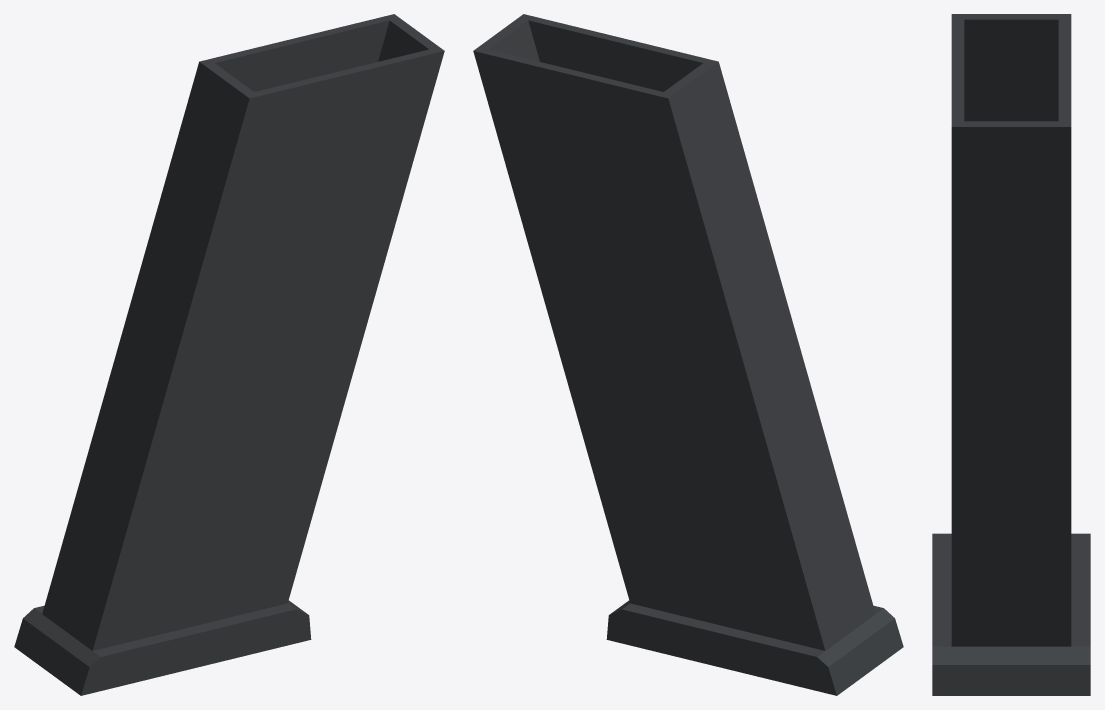
File: Pistol4_06_4.fbx
The picture shows the model from 3 angles, left to right: view 1: azimuth 30°, elevation 25°; view 2: azimuth 150°, elevation 25°; view 3: azimuth 270°, elevation 25°; orthographic projection. The views are drawn at different scales.
Visible parts, largest first — view 1: Pistol4_06_4; view 2: Pistol4_06_4; view 3: Pistol4_06_4.
Part boxes in pixels (x1,y1,x2,y2): Pistol4_06_4: (14, 14, 444, 695); Pistol4_06_4: (473, 14, 903, 695); Pistol4_06_4: (932, 14, 1090, 695).
Size of the model in its own units: 0.0778 by 0.1096 by 0.0242.
